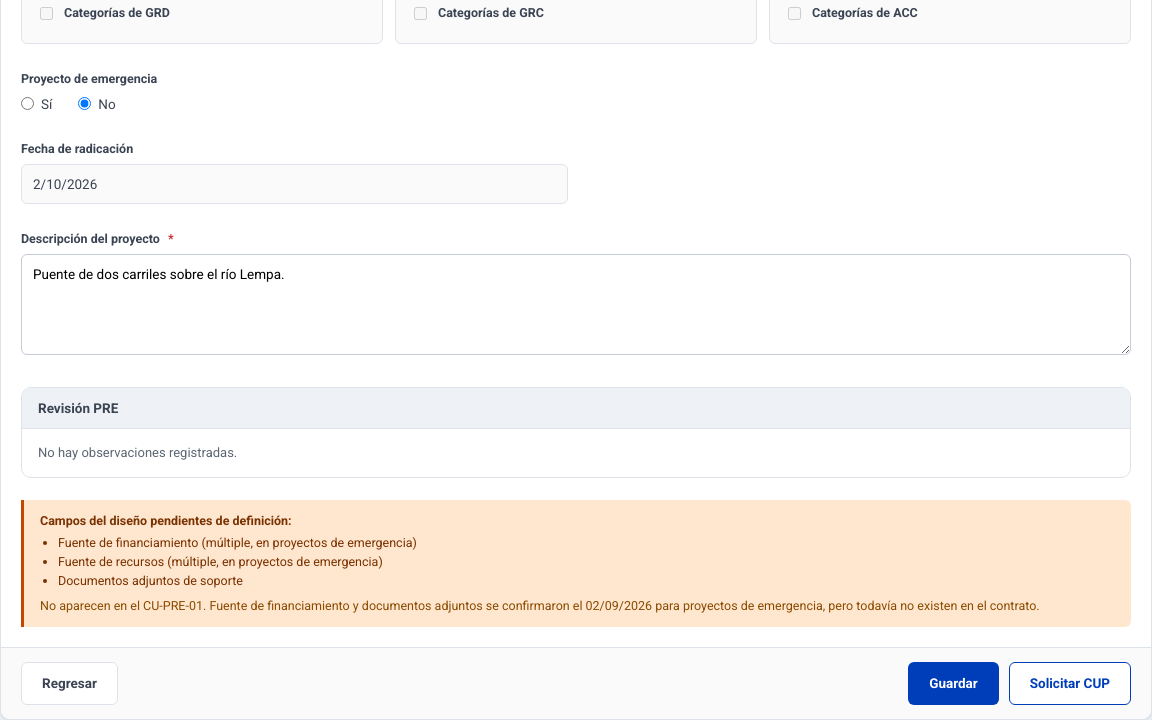
Scenario: ProyectoFormPage — solicitar CUP › marca cada campo devuelto en detalles[] de un 400, sin abrir el modal genérico
(page scrolled)
Click the button "Solicitar CUP" at (1070, 683), box [1009,662,1131,705]
(page scrolled)
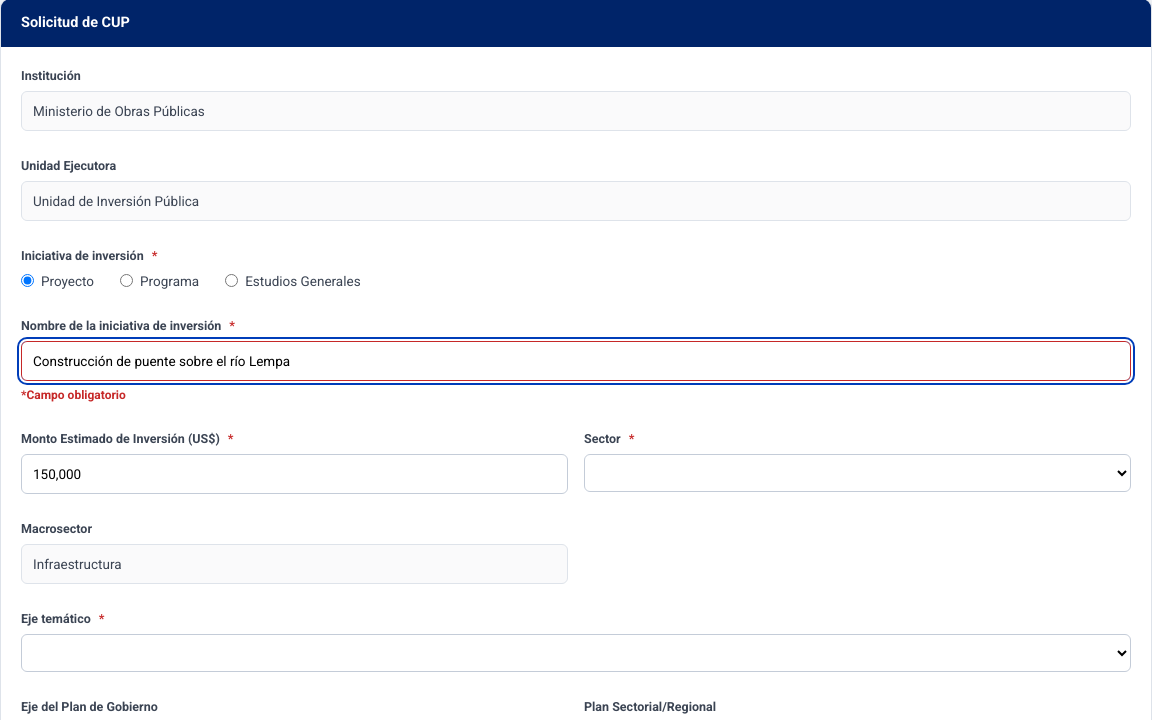
Now the text "*Campo obligatorio" is shown 2 times
